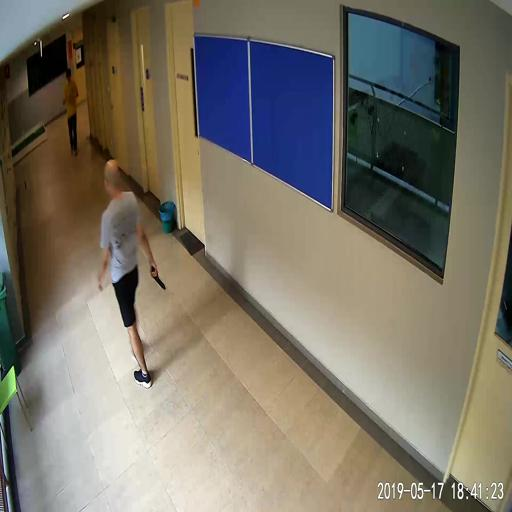pistol: (149, 265, 165, 291)
